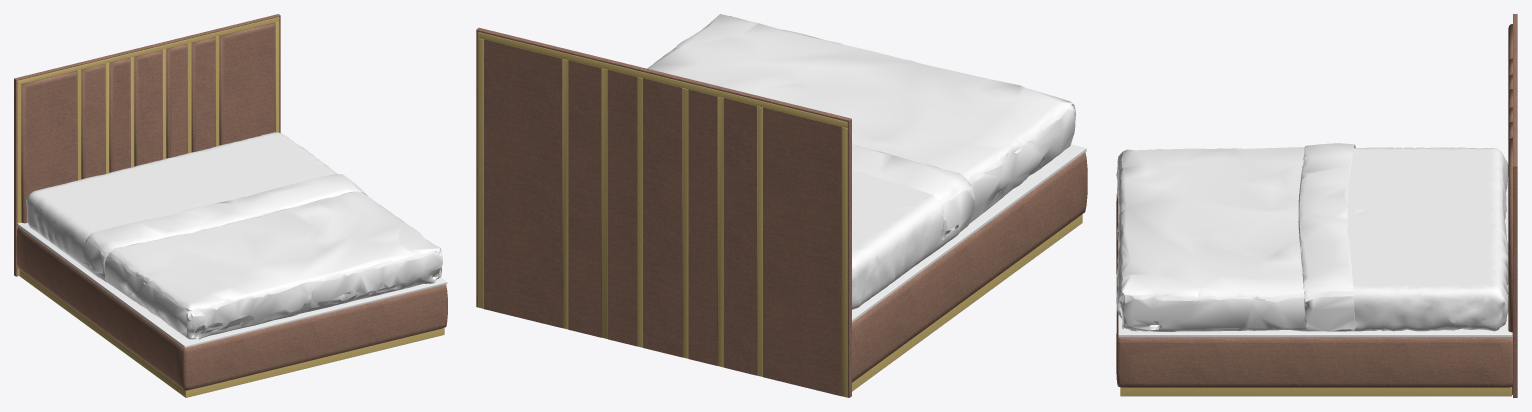
The model's file is bed1-var1.glb.
The picture shows the model from 3 angles, left to right: view 1: azimuth 30°, elevation 25°; view 2: azimuth 150°, elevation 25°; view 3: azimuth 270°, elevation 25°; orthographic projection. The views are drawn at different scales.
Parts seen in each view (by area): view 1: object 4, Object002_Selesta 2721_0, bauci_ovidio01_Selesta 2721_0, Kleo_Part_2_Kleo_6_72_0, object 8, Box296_NCS S 1502-Y50R semigloss_0, object 7, Object_Selesta 2721_0; view 2: Object002_Selesta 2721_0, object 4, object 8, bauci_ovidio01_Selesta 2721_0, Kleo_Part_2_Kleo_6_72_0, Object_Selesta 2721_0, Box296_NCS S 1502-Y50R semigloss_0, object 7; view 3: object 4, Kleo_Part_2_Kleo_6_72_0, bauci_ovidio01_Selesta 2721_0, object 7, Box296_NCS S 1502-Y50R semigloss_0, Object_Selesta 2721_0, Object002_Selesta 2721_0.
Part boxes in pixels (box(x1,y1,x2,y2)): object 4: box(82, 174, 442, 339); Object002_Selesta 2721_0: box(21, 22, 275, 223); bauci_ovidio01_Selesta 2721_0: box(16, 226, 447, 390); Kleo_Part_2_Kleo_6_72_0: box(26, 132, 337, 279); object 8: box(17, 17, 279, 276); Box296_NCS S 1502-Y50R semigloss_0: box(17, 222, 447, 347); object 7: box(19, 270, 444, 397); Object_Selesta 2721_0: box(14, 14, 280, 276); Object002_Selesta 2721_0: box(484, 39, 841, 396); object 4: box(647, 14, 1075, 241); object 8: box(478, 32, 847, 397); bauci_ovidio01_Selesta 2721_0: box(852, 152, 1087, 382); Kleo_Part_2_Kleo_6_72_0: box(852, 170, 959, 309); Object_Selesta 2721_0: box(476, 27, 851, 397); Box296_NCS S 1502-Y50R semigloss_0: box(852, 144, 1086, 322); object 7: box(852, 214, 1082, 391); object 4: box(1116, 143, 1355, 331); Kleo_Part_2_Kleo_6_72_0: box(1326, 147, 1508, 331); bauci_ovidio01_Selesta 2721_0: box(1116, 195, 1512, 387); object 7: box(1120, 387, 1511, 396); Box296_NCS S 1502-Y50R semigloss_0: box(1118, 184, 1512, 337); Object_Selesta 2721_0: box(1513, 14, 1517, 397); Object002_Selesta 2721_0: box(1508, 24, 1512, 394).
Bounding box in the file's own units: 1.91 × 1.35 × 2.12.
Materials: 3 (1 with a texture image).
